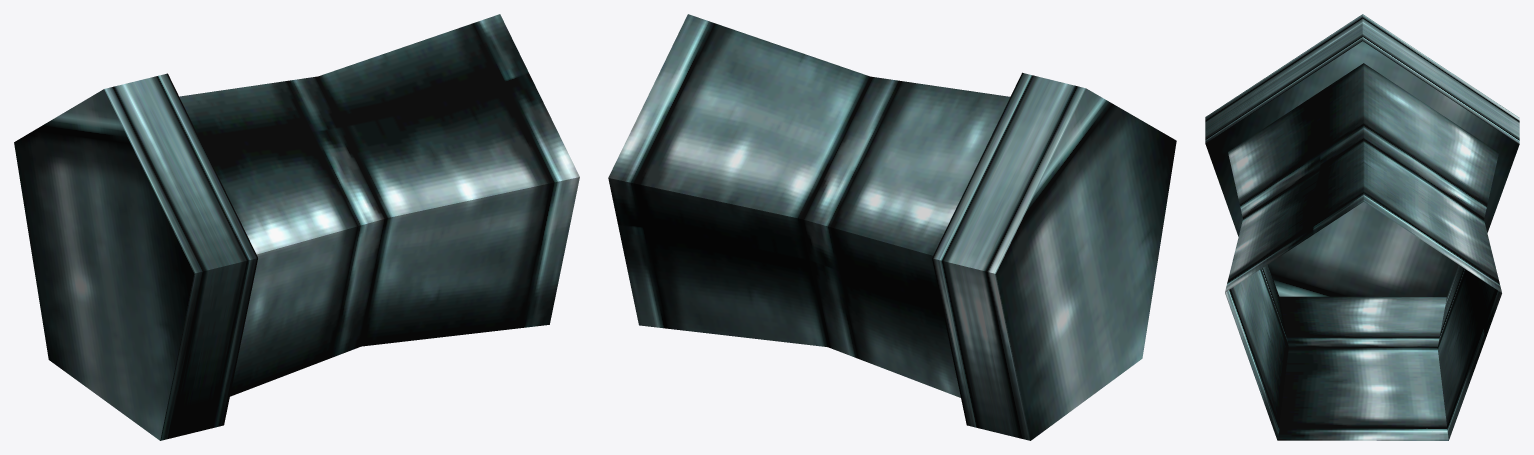
Rendered from Rohr_Stück [Metall]_946.glb.
3 views of the same model, side by side, from view 1: azimuth 30°, elevation 25°; view 2: azimuth 150°, elevation 25°; view 3: azimuth 270°, elevation 25° (orthographic). The views are drawn at different scales.
Parts seen in each view (by area): view 1: pCylinderShape75, pCylinderShape76; view 2: pCylinderShape75, pCylinderShape76; view 3: pCylinderShape75, pCylinderShape76.
Boxes of the visible parts, bbox=[...] form: pCylinderShape75: bbox=[179, 14, 579, 396]; pCylinderShape76: bbox=[14, 73, 257, 440]; pCylinderShape75: bbox=[608, 14, 1009, 397]; pCylinderShape76: bbox=[932, 72, 1176, 440]; pCylinderShape75: bbox=[1225, 63, 1501, 440]; pCylinderShape76: bbox=[1205, 14, 1519, 296].
Bounding box in the file's own units: 0.545 × 0.4087 × 0.4294.
Materials: 2 (2 with a texture image).
